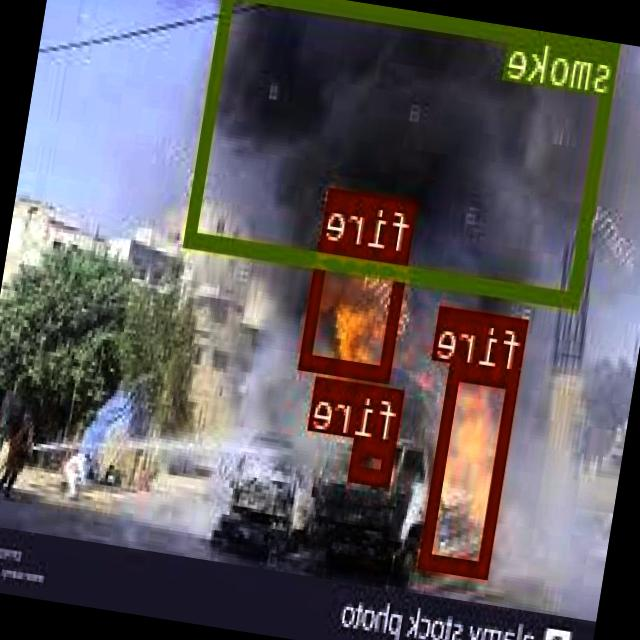fire: (421, 362, 522, 576), (301, 242, 410, 382), (351, 438, 398, 483)
smoke: (185, 0, 620, 307)
